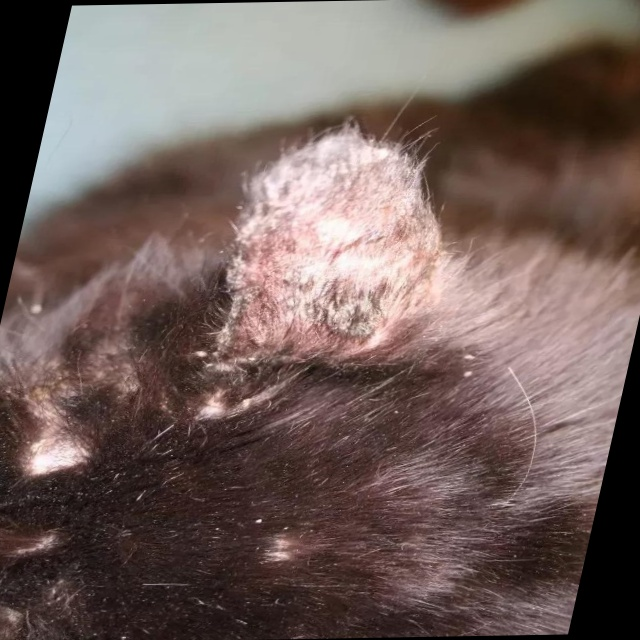ringworm: (243, 204, 423, 340)
